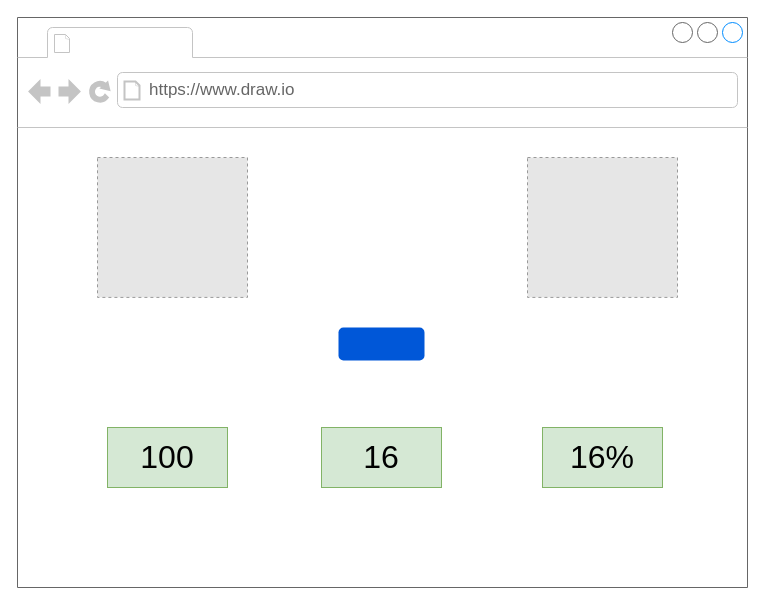
Image size: 765x605. Some labels were removed from this diagram. Grey dashed boxes stand in for pictures. Each missing label, with the centre of its shape:
Gioca: (x=381, y=343)
Page 1: (x=132, y=42)
